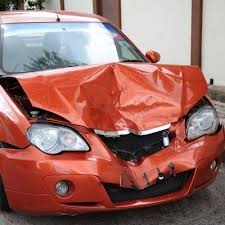Smashed: (61, 64, 207, 193)
